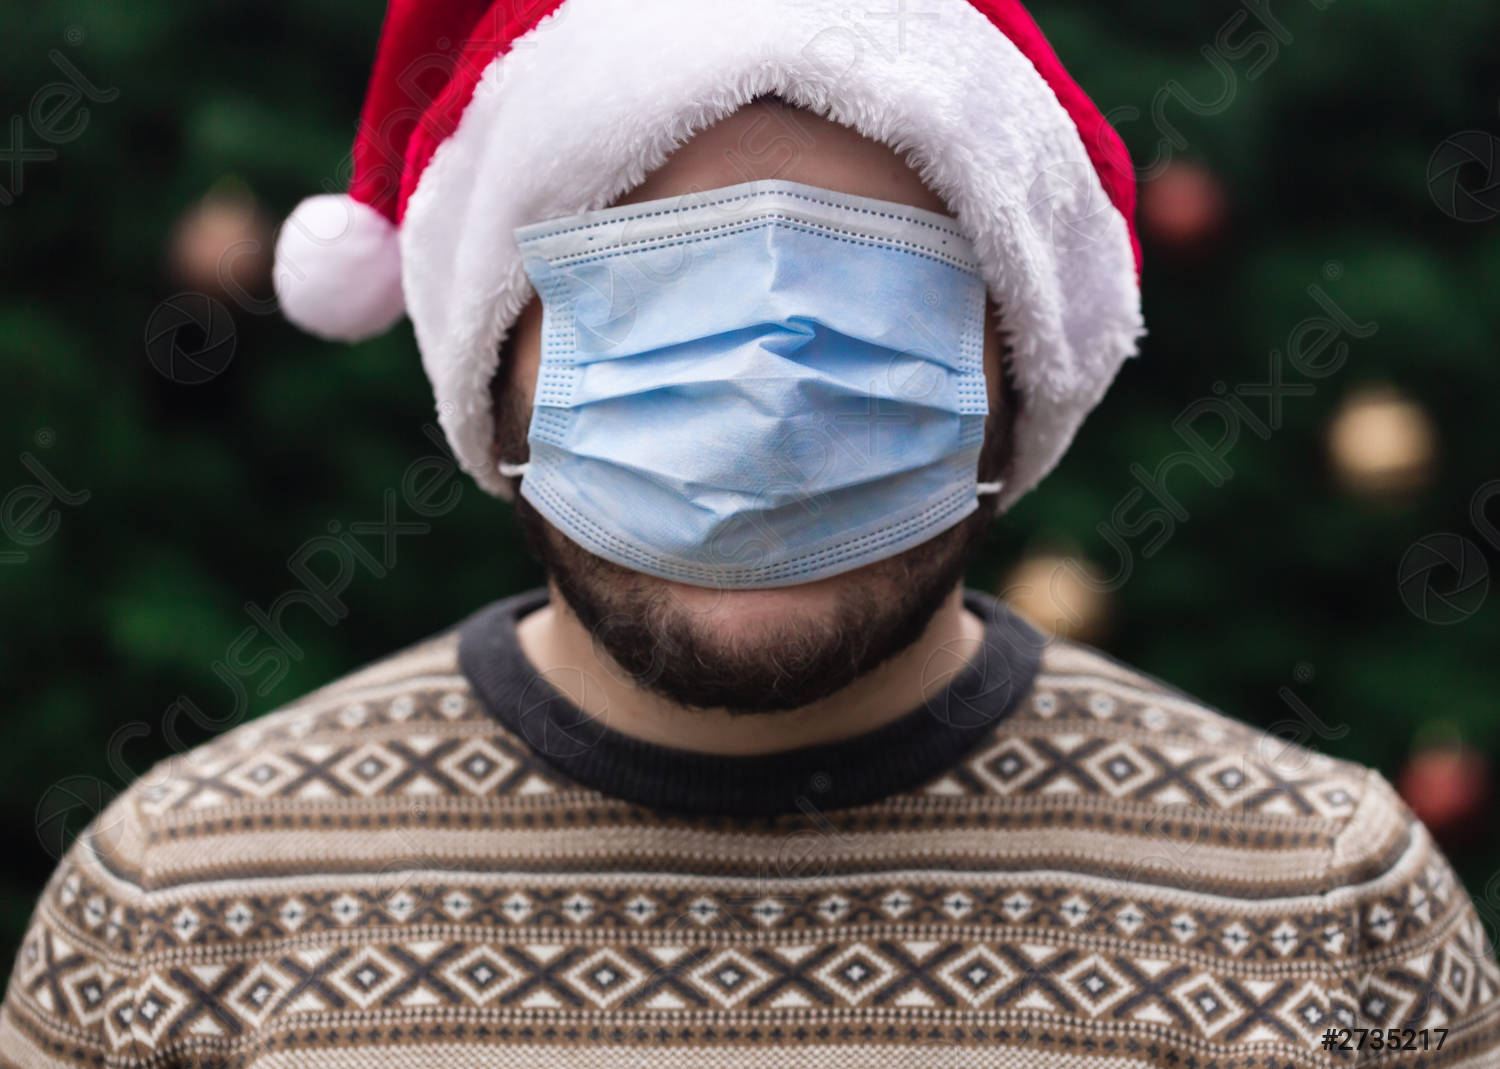mask_weared_incorrect: (501, 163, 1012, 735)
